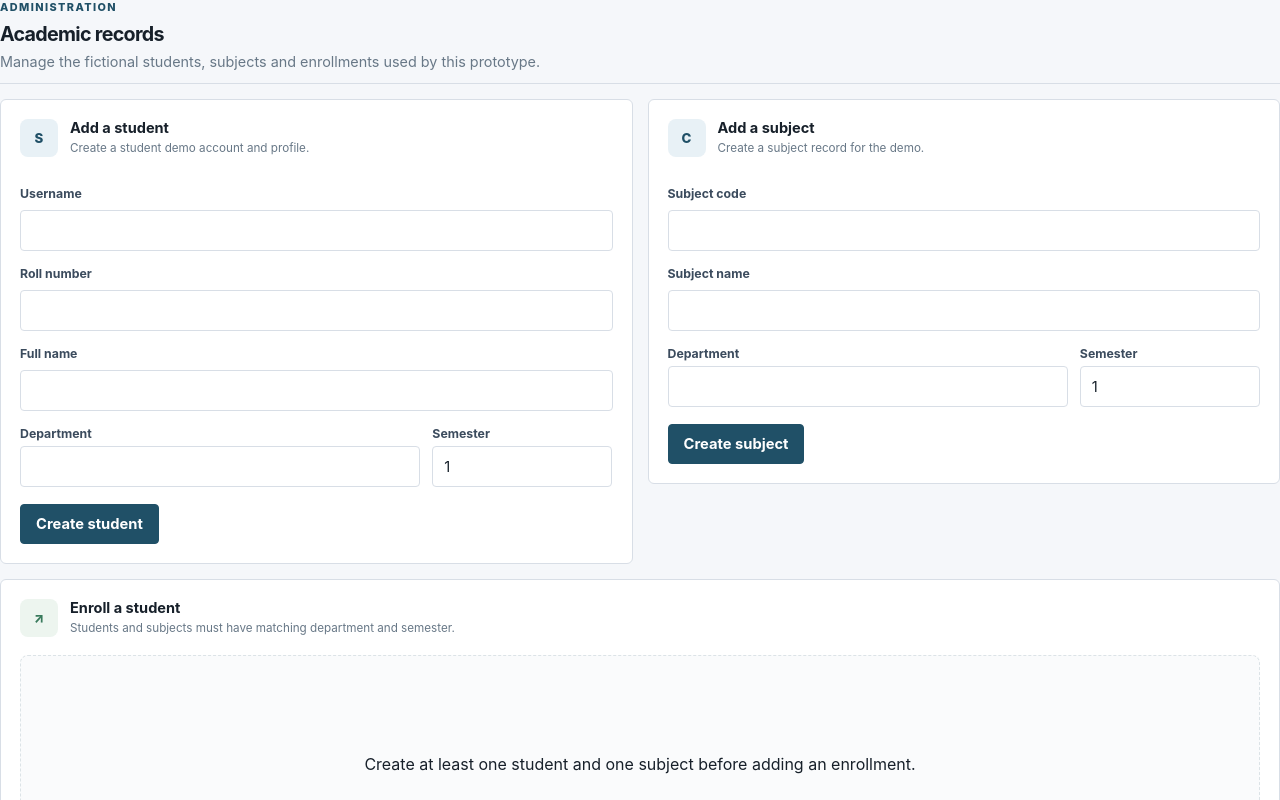
Test case: AdminRecordManagement › creates a student through the existing administrator API
In the field labelled "Username": (316,231) [20, 210, 612, 251], type "student.new"
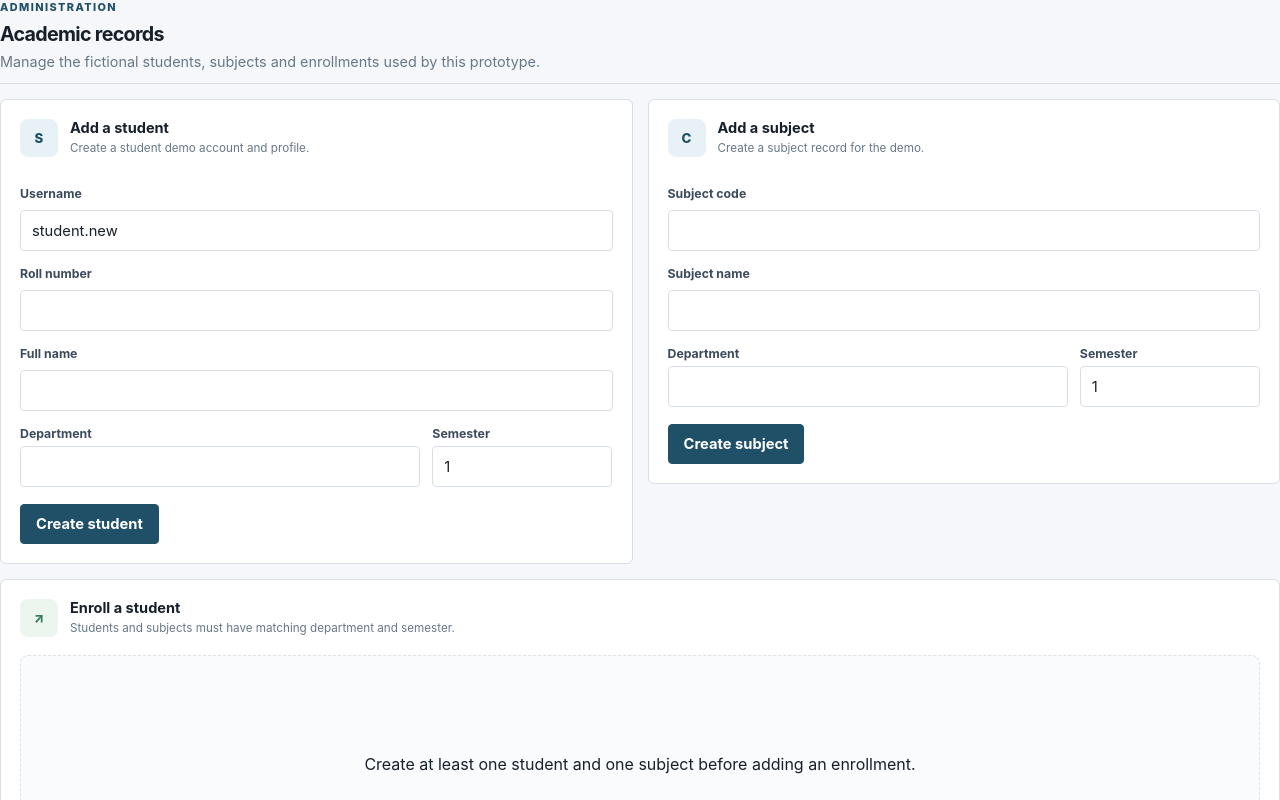
In the field labelled "Roll number": (316,311) [20, 290, 612, 331], type "DEMO010"
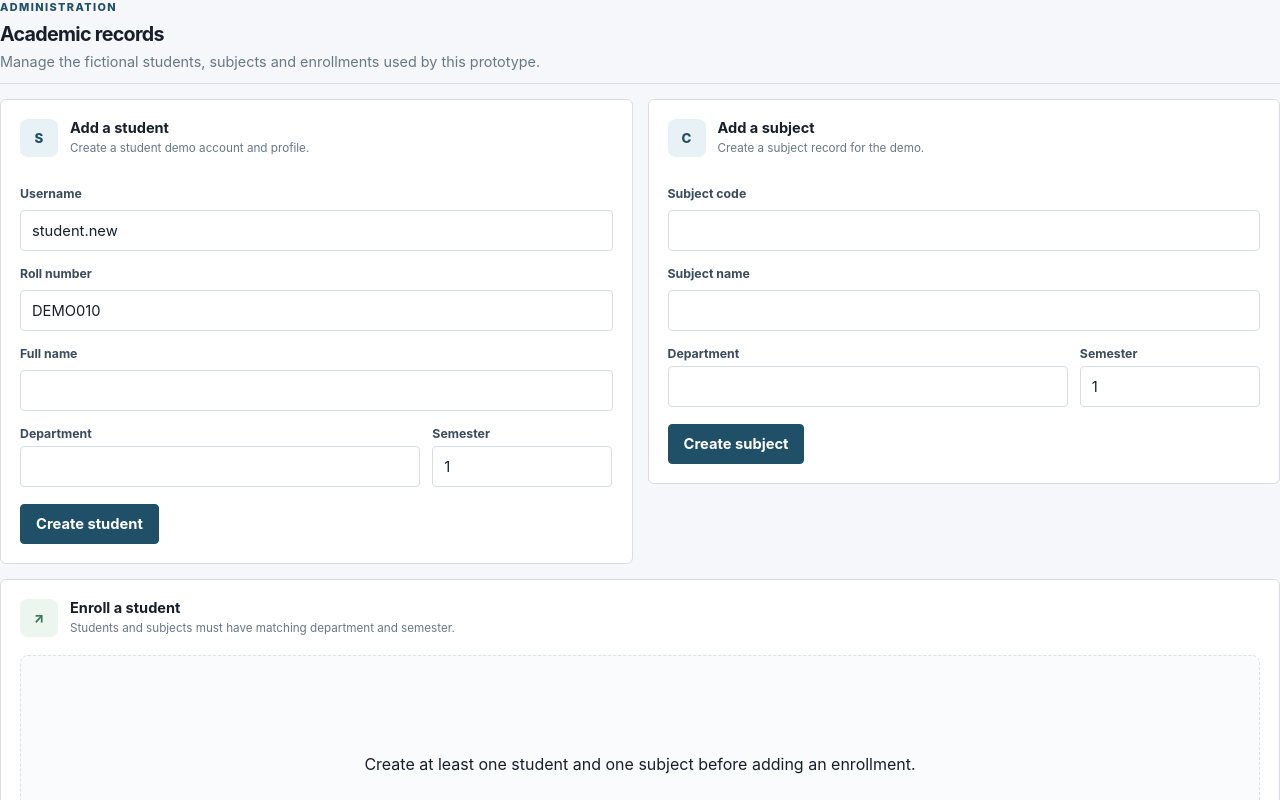
In the field labelled "Full name": (316,391) [20, 370, 612, 411], type "Fictional Student"
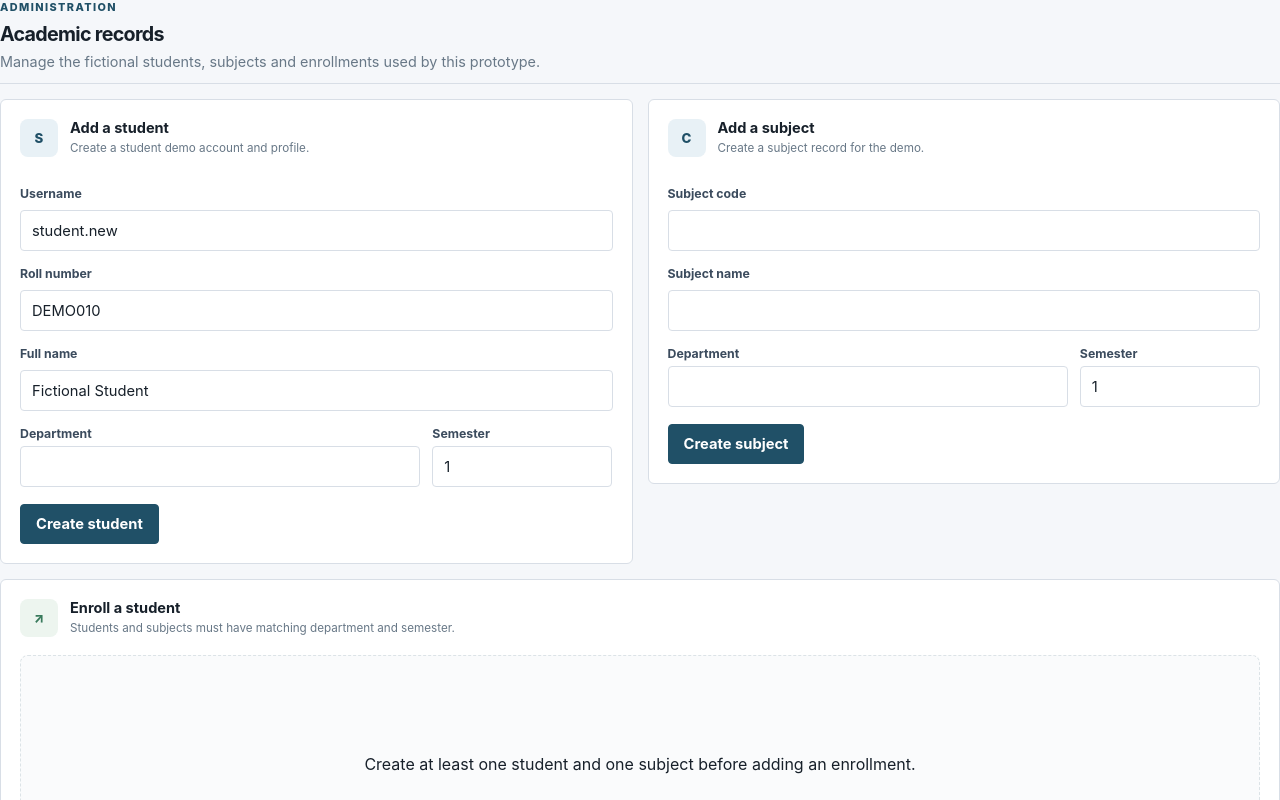
In the field with id "student-department": (220,467) [20, 446, 420, 487], type "Computer Science"
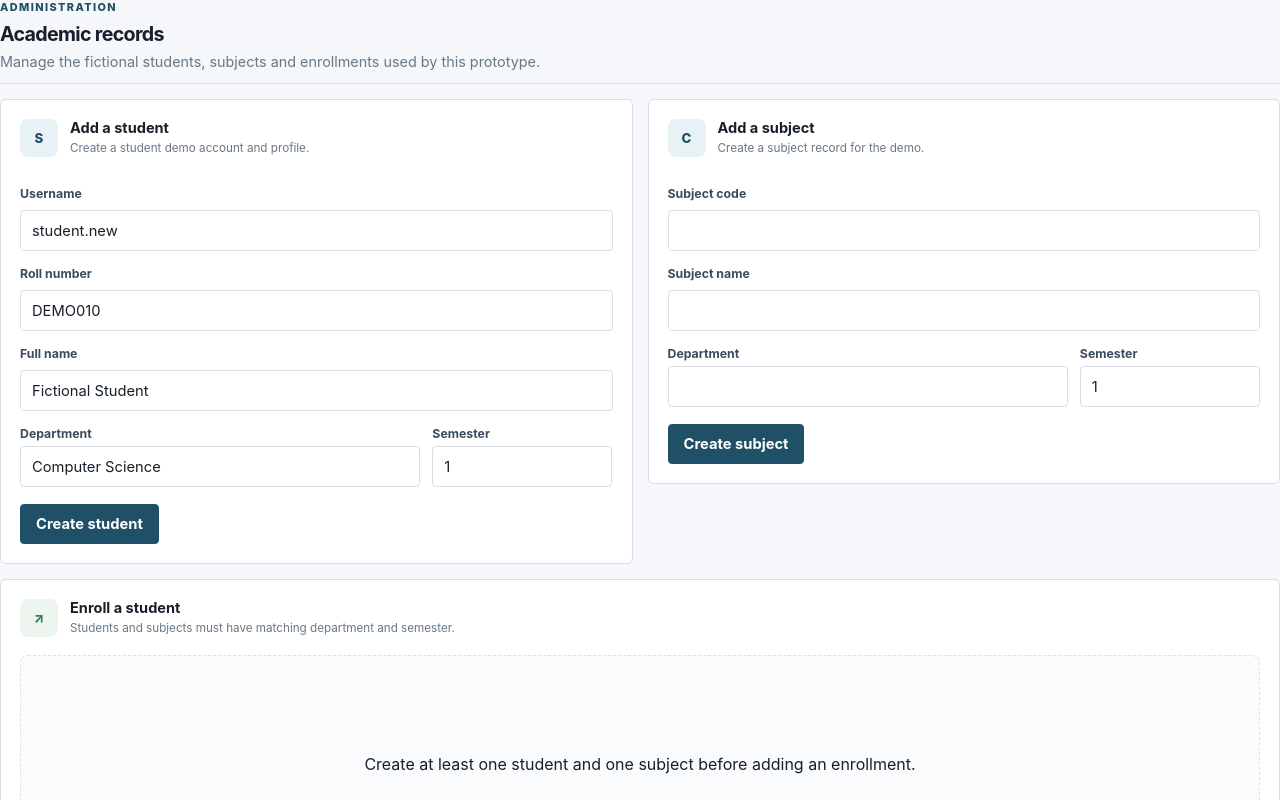
Click the button "Create student": (89,524) [20, 504, 159, 544]
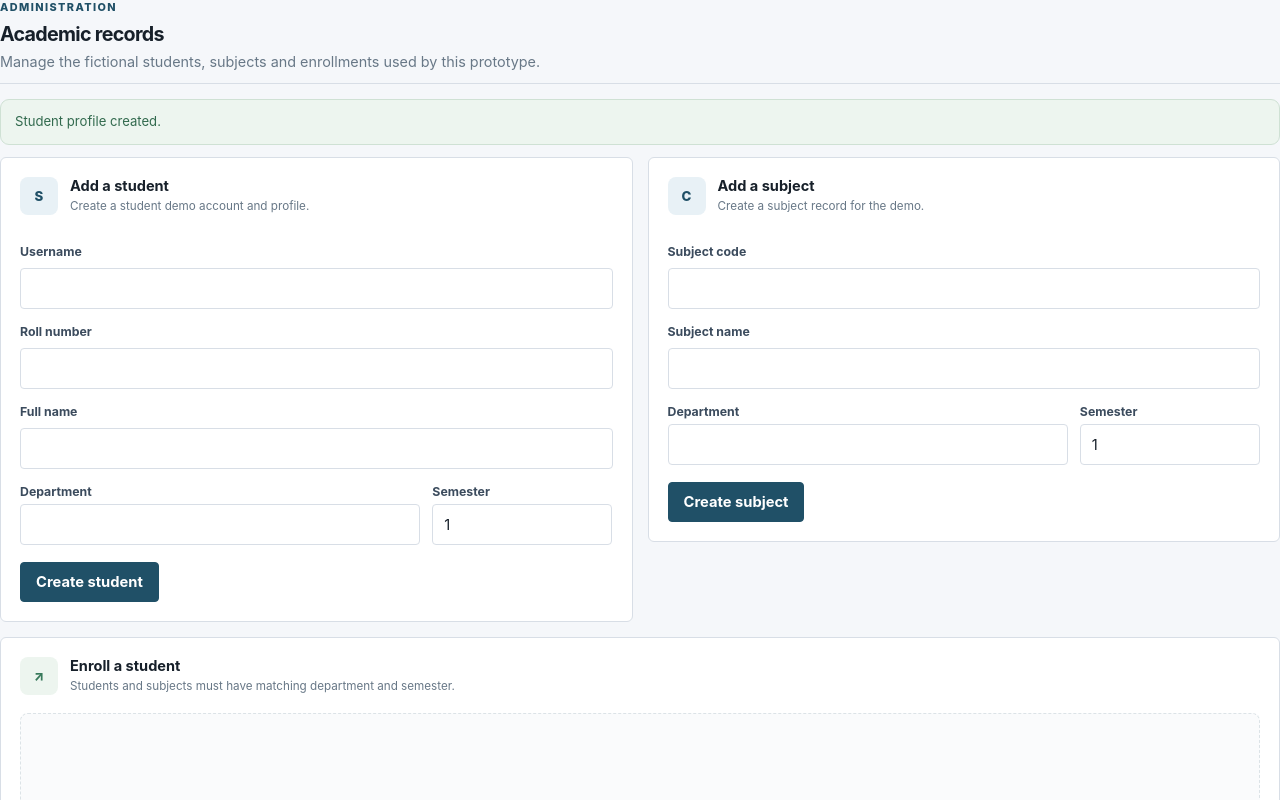
Now the text "Student profile created." is shown, box [0, 99, 1279, 145]
